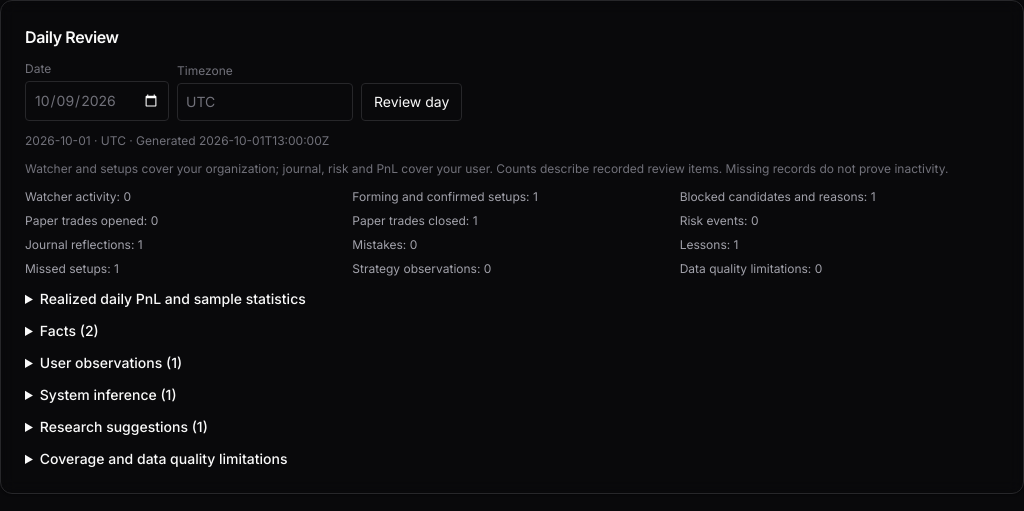
Test: Daily Review › clears stale metrics on failure and supports retry
The width and height of the screenshot is (1024, 511).
Click the button "Review day".
click(412, 102)  # box x1=361 y1=83 x2=462 y2=121
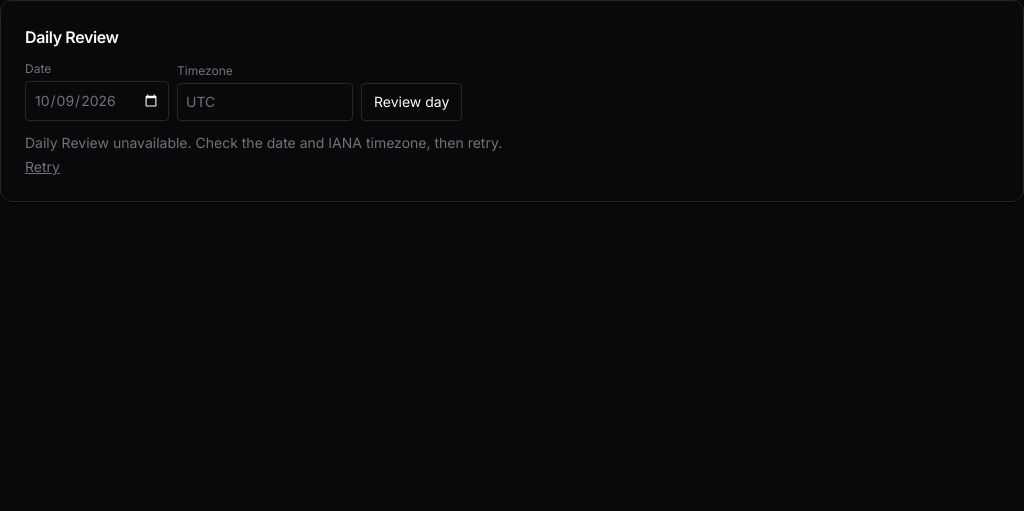
Check: the message "Daily Review unavailable. Check the date and IANA timezone, then retry. Retry" is shown, box x1=25 y1=134 x2=502 y2=177
Check: the element with test id "daily-review-content" is gone
Click the button "Retry".
click(42, 167)  # box x1=25 y1=157 x2=60 y2=177
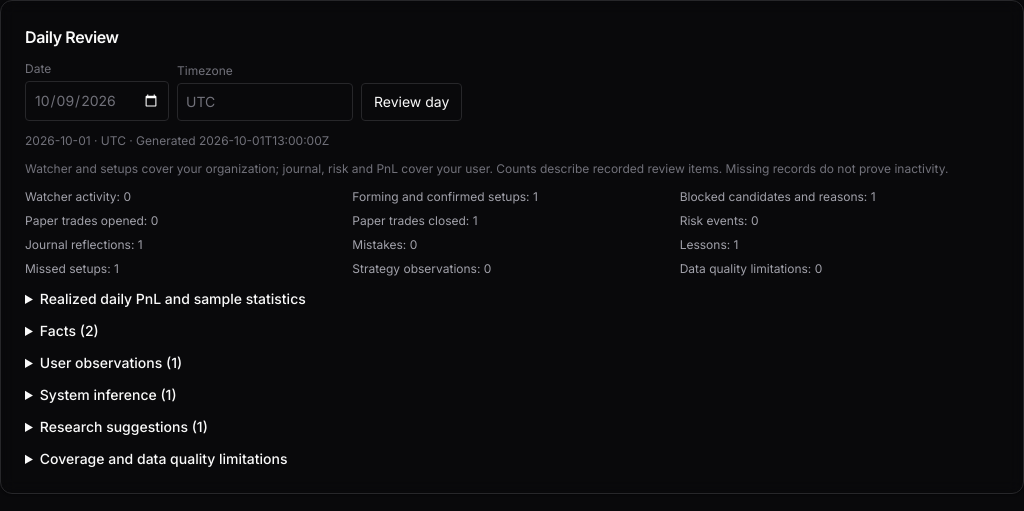
Check: the element with test id "daily-review-content" is shown
